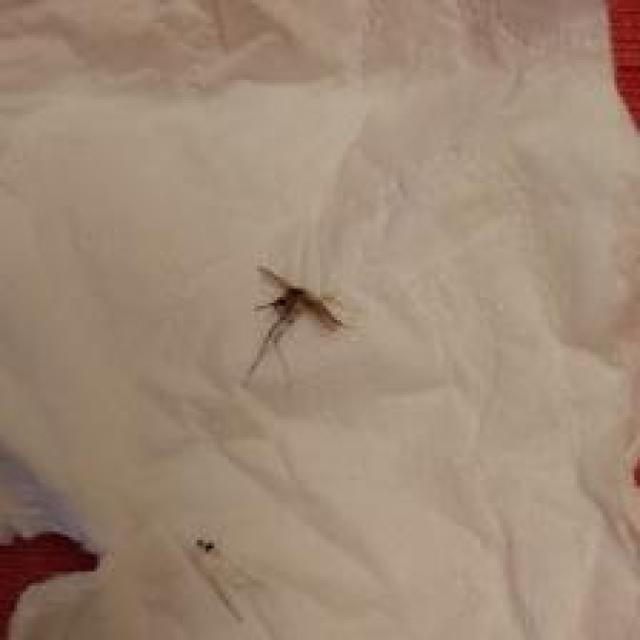Culex: (242, 263, 347, 386)
